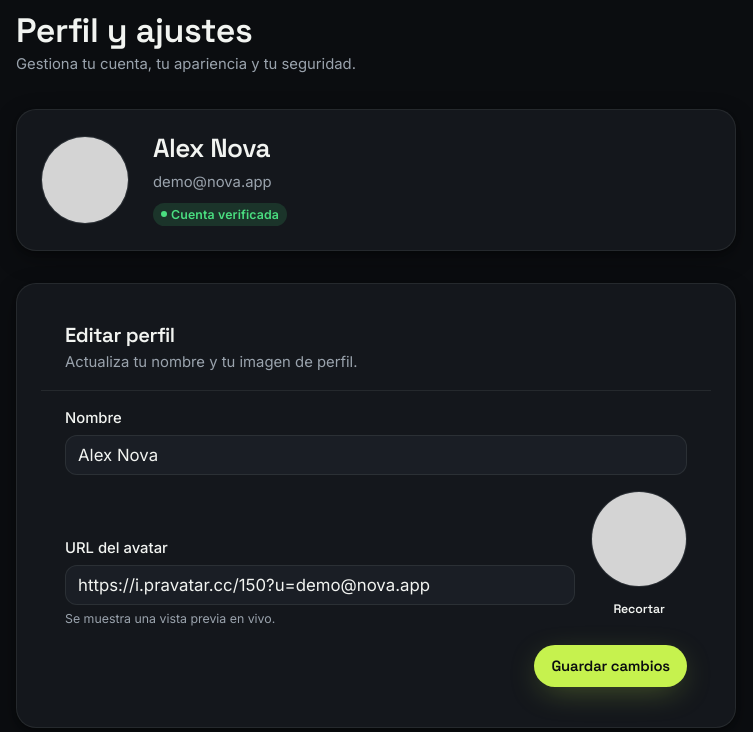
Test case: ProfilePage › edita el nombre, envía el PATCH y muestra el feedback de éxito
The image size is (753, 732).
Replace the text in the field labelled "Nombre" with "Ada Lovelace" at (376, 455), box [78,436,674,474]
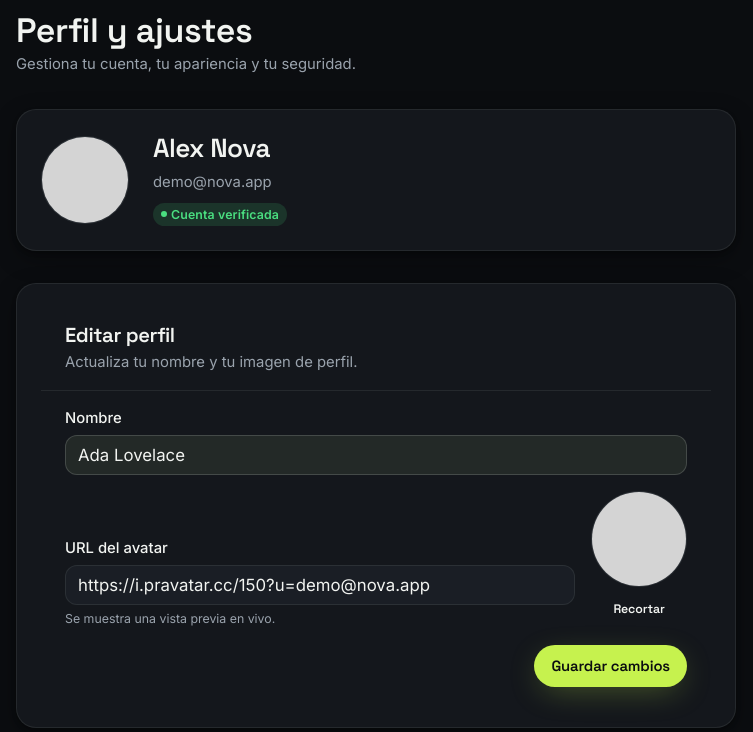
Click the button "Guardar cambios" at (611, 666), box [534,645,687,687]
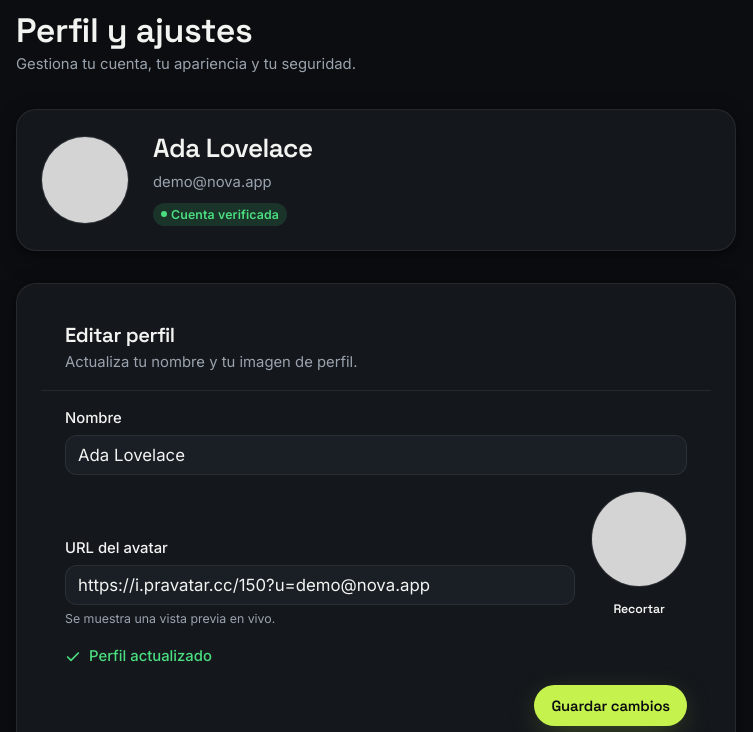
Expected: the text "Perfil actualizado" is shown, [65,647,212,665]
Expected: the heading "Ada Lovelace" is shown, [153,134,313,163]
